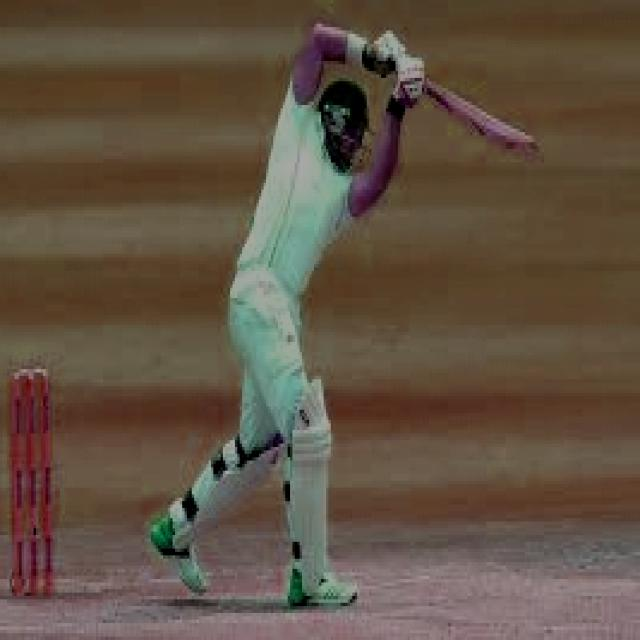toe: (507, 119, 551, 171)
